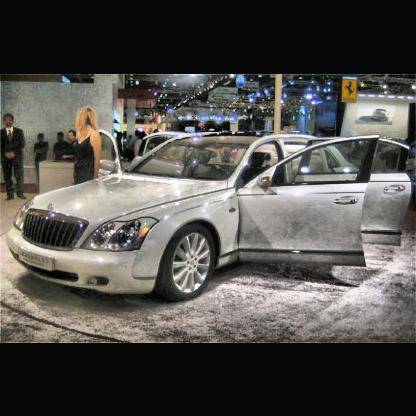Maybach Landaulet Convertible 2012: (4, 128, 415, 305)
